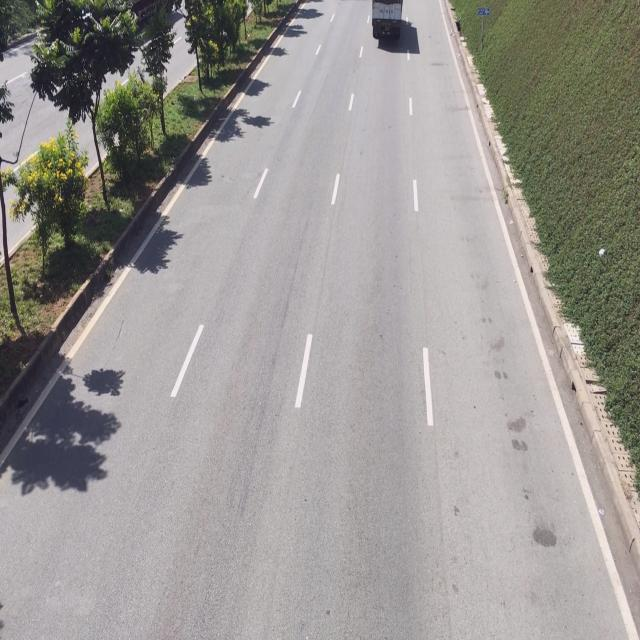truck: (370, 0, 406, 42)
